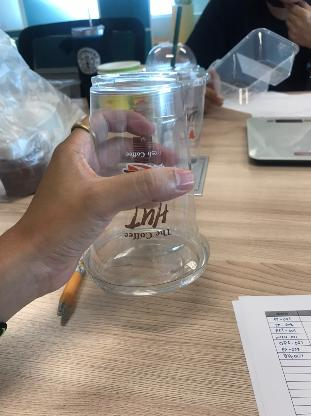Plastic Cup: (80, 59, 220, 309)
